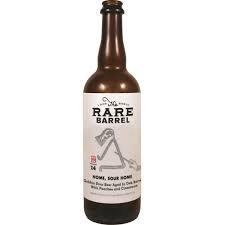beer: (84, 1, 142, 224)
